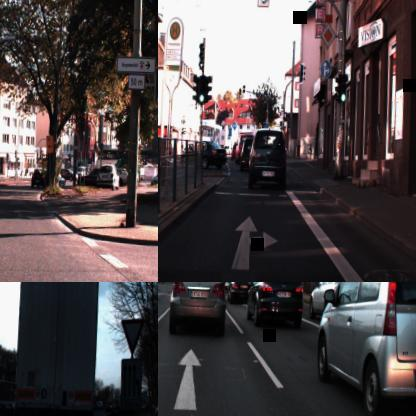give way: (118, 316, 144, 356)
go right: (319, 58, 331, 78)
priority road: (319, 22, 336, 48)
